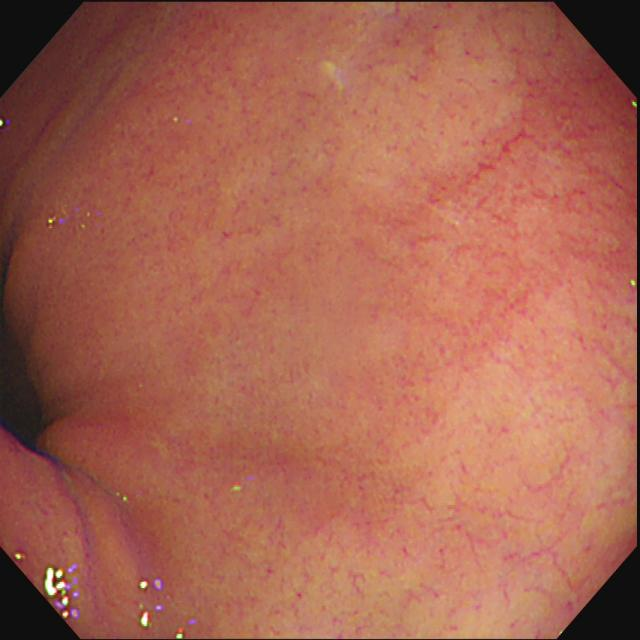E: (2, 320, 53, 461)
U: (44, 565, 82, 624), (140, 577, 164, 631)
